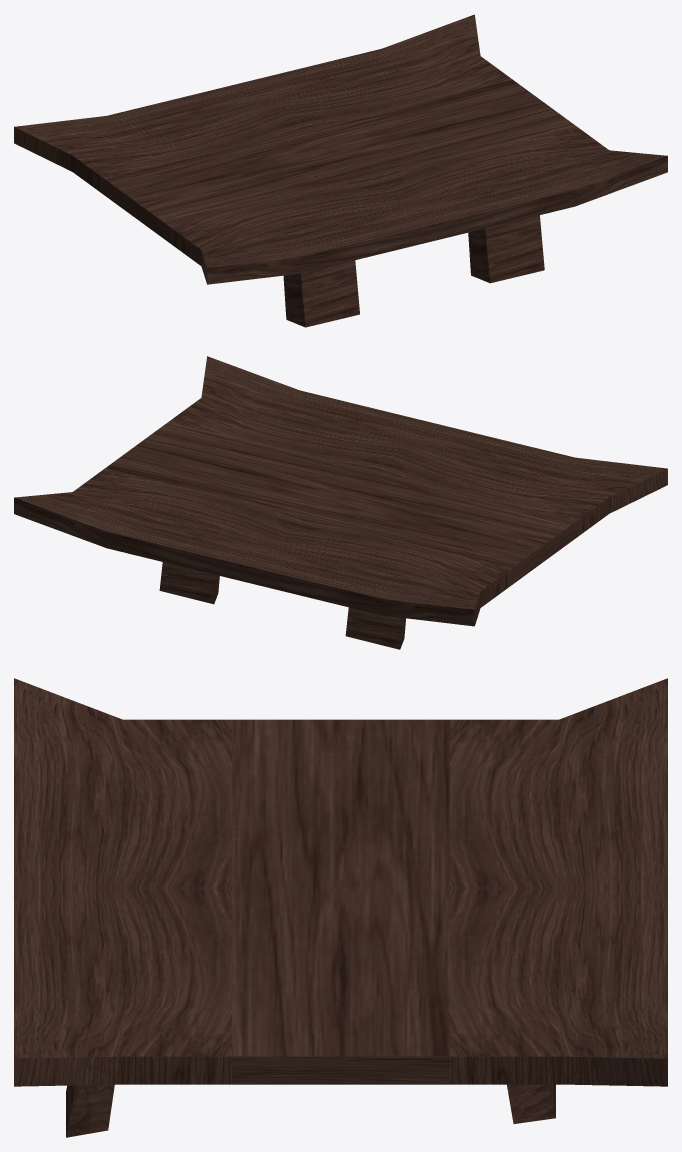
File: NNJ0510022.fbx
3 views of the same model, one above another, from view 1: azimuth 30°, elevation 25°; view 2: azimuth 150°, elevation 25°; view 3: azimuth 270°, elevation 25° (orthographic). The views are drawn at different scales.
Visible parts, largest first — view 1: smNNJ0510022; view 2: smNNJ0510022; view 3: smNNJ0510022.
Boxes of the visible parts, left/top/right/bottom form: smNNJ0510022: left=14, top=14, right=667, bottom=327; smNNJ0510022: left=14, top=356, right=667, bottom=649; smNNJ0510022: left=14, top=678, right=667, bottom=1137.
Bounding box in the file's own units: 220 × 45.42 × 160.
1 material, 1 textured.
